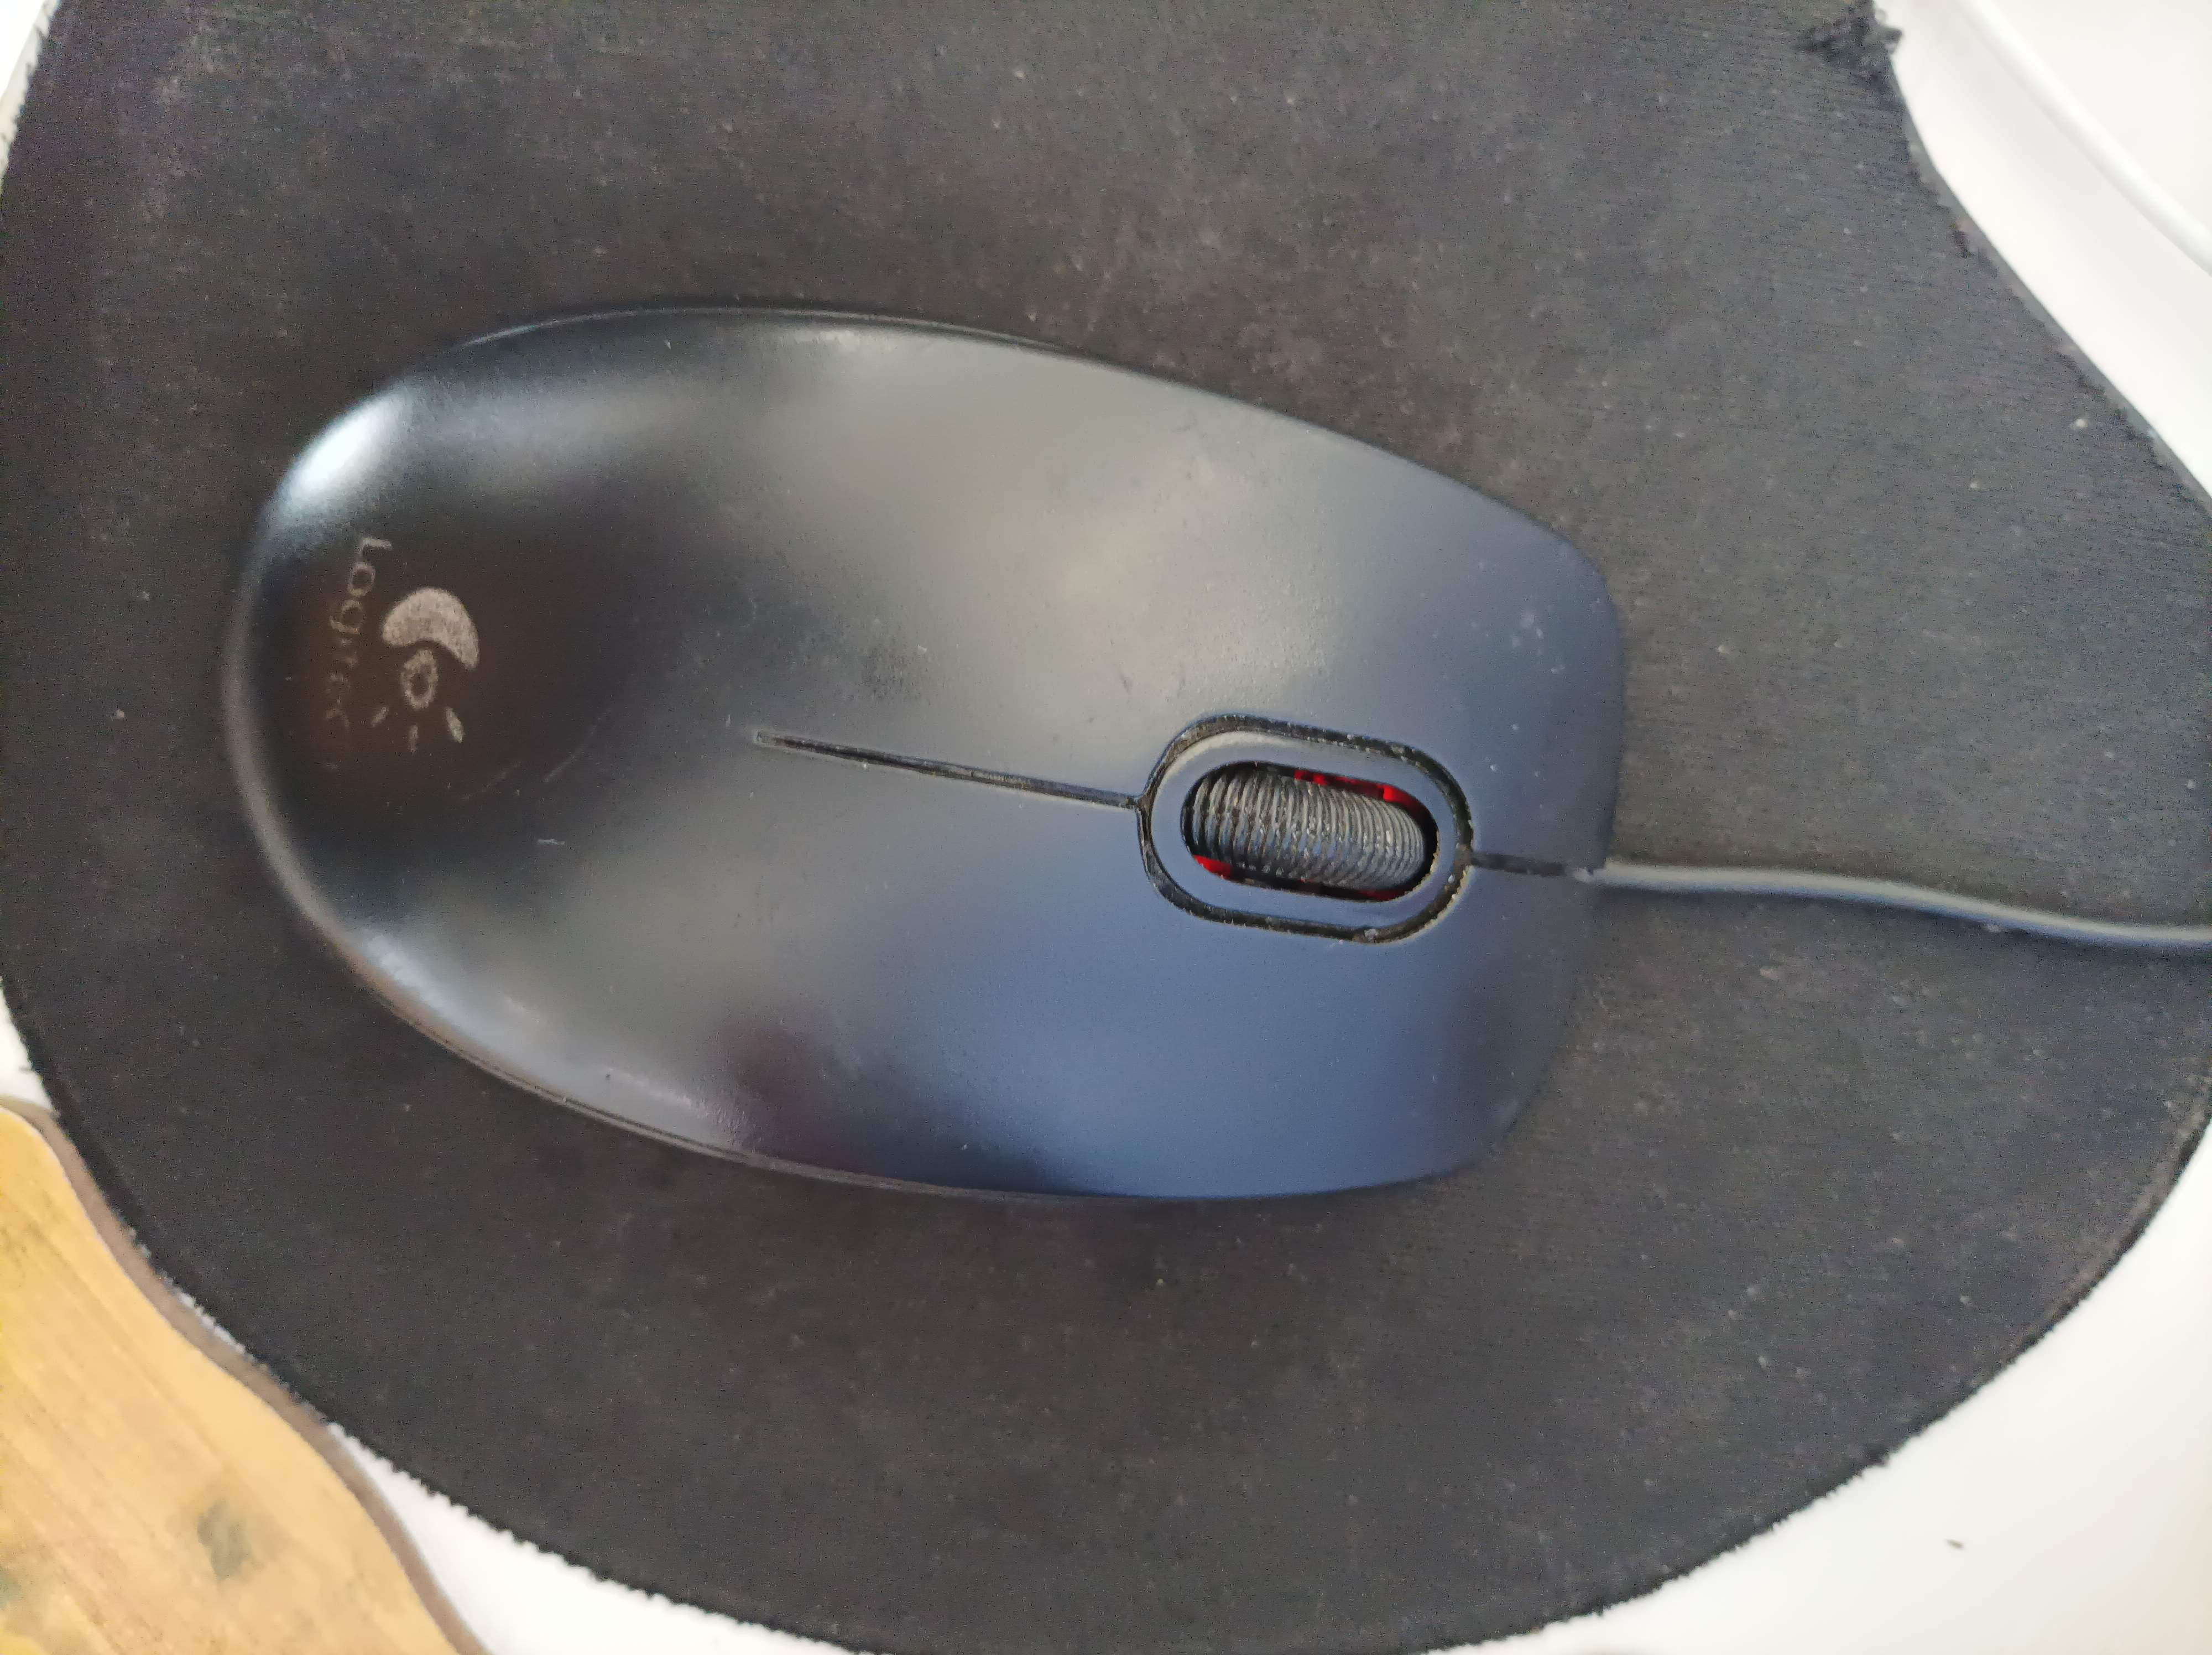mouse: (203, 287, 1635, 1219)
